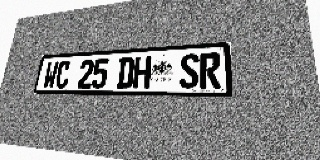2: (77, 59, 95, 88)
5: (91, 58, 109, 88)
C: (54, 61, 71, 88)
D: (116, 57, 135, 88)
H: (133, 56, 151, 88)
R: (200, 52, 221, 88)
S: (179, 53, 199, 88)
W: (42, 61, 59, 88)
